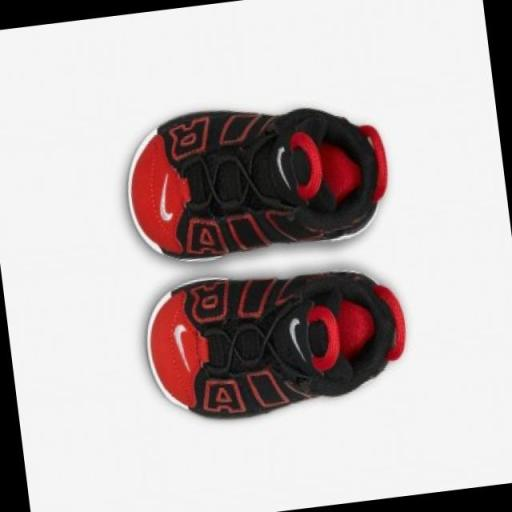Nike: (167, 320, 196, 378)
